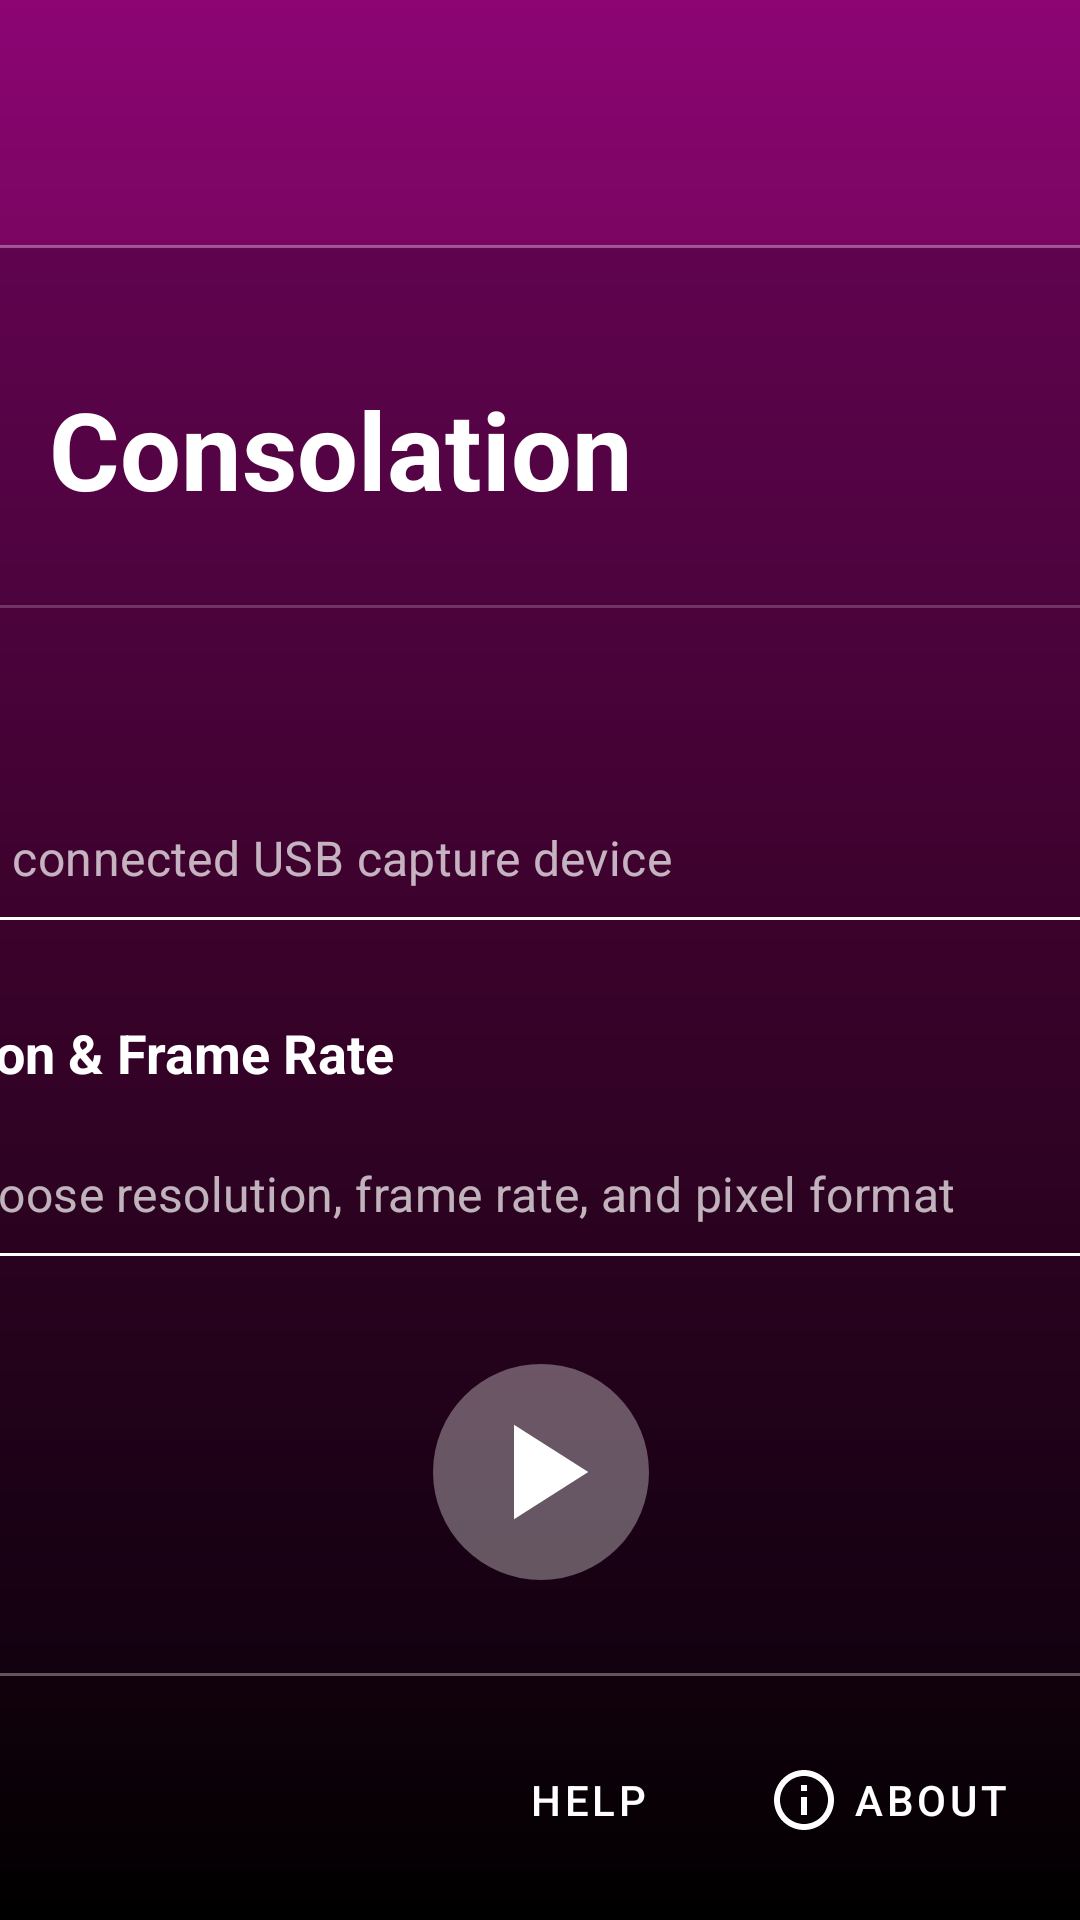

Icons on this 1080*1920 Android screen, each with the point to tap as (x=x, y=y):
Play: (x=541, y=1472)
